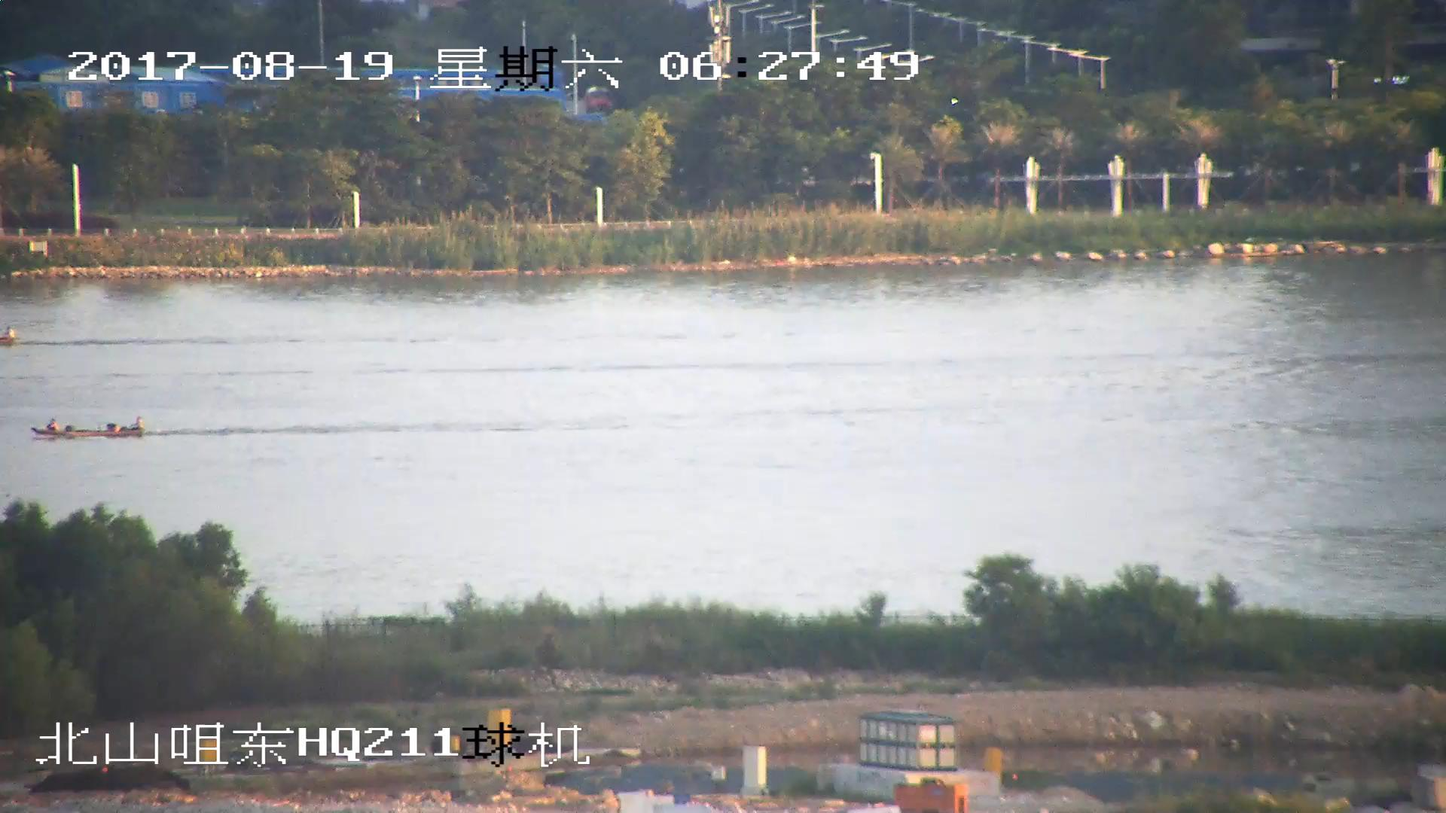fishing boat: (34, 414, 147, 440)
